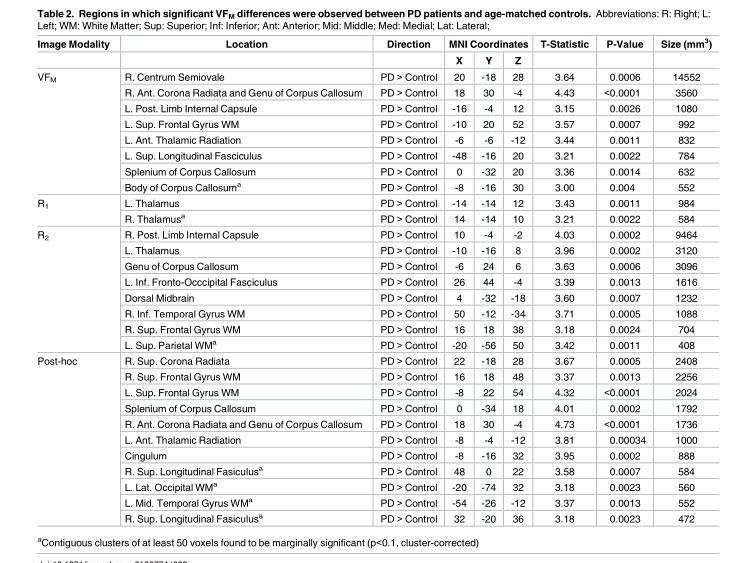table: (36, 37, 711, 523)
table column: (116, 37, 370, 523), (36, 37, 116, 523), (370, 37, 442, 523), (533, 37, 595, 523), (652, 37, 711, 523), (595, 37, 652, 523), (442, 37, 473, 523), (502, 37, 533, 523), (473, 37, 502, 523)
table column header: (36, 37, 711, 68)
table row: (36, 52, 711, 68), (36, 68, 711, 84), (36, 99, 711, 115), (36, 115, 711, 131), (36, 131, 711, 147), (36, 147, 711, 163), (36, 178, 711, 194), (36, 194, 711, 210), (36, 210, 711, 226), (36, 241, 711, 257), (36, 257, 711, 273), (36, 273, 711, 289), (36, 289, 711, 305), (36, 320, 711, 336), (36, 336, 711, 352), (36, 352, 711, 368), (36, 383, 711, 399), (36, 399, 711, 415), (36, 415, 711, 431), (36, 431, 711, 447), (36, 462, 711, 478), (36, 478, 711, 494), (36, 494, 711, 510), (36, 37, 711, 52), (36, 84, 711, 99), (36, 163, 711, 178), (36, 226, 711, 241), (36, 305, 711, 320), (36, 368, 711, 383), (36, 447, 711, 462), (36, 510, 711, 523)
table spanning cell: (36, 352, 116, 523), (36, 68, 116, 194), (36, 226, 116, 352), (116, 37, 370, 68), (36, 194, 116, 226), (36, 37, 116, 68), (370, 37, 442, 68), (533, 37, 595, 68), (652, 37, 711, 68), (595, 37, 652, 68), (442, 37, 533, 52)
